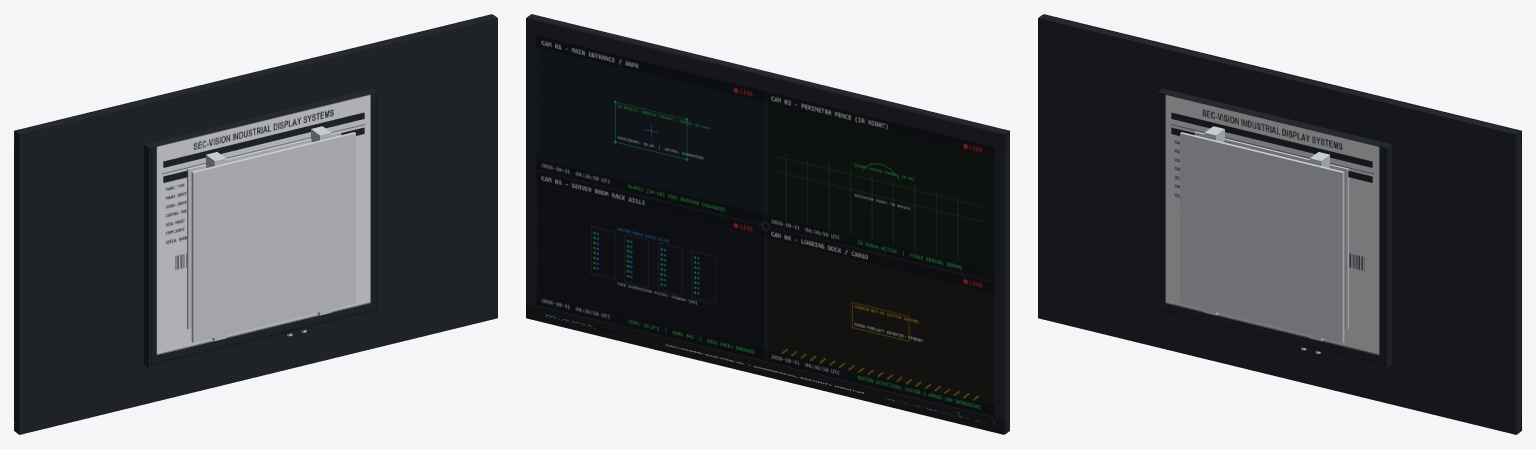
The model's file is SEC_Monitor_Wall_Display.fbx.
The picture shows the model from 3 angles, left to right: view 1: azimuth 30°, elevation 25°; view 2: azimuth 150°, elevation 25°; view 3: azimuth 330°, elevation 25°; orthographic projection.
Visible parts, largest first — view 1: Display_Housing, VESA_Plate, Bezel; view 2: Screen_Surface, Bezel, Display_Housing; view 3: Display_Housing, VESA_Plate, Bezel.
Boxes of the visible parts, bbox=[...] form: Display_Housing: bbox=[15, 14, 497, 434]; VESA_Plate: bbox=[187, 126, 355, 342]; Bezel: bbox=[14, 14, 492, 431]; Screen_Surface: bbox=[536, 35, 994, 416]; Bezel: bbox=[526, 17, 1004, 434]; Display_Housing: bbox=[527, 14, 1009, 434]; Display_Housing: bbox=[1038, 14, 1520, 434]; VESA_Plate: bbox=[1180, 126, 1348, 342]; Bezel: bbox=[1043, 14, 1521, 431].
Bounding box in the file's own units: 100 × 60 × 8.2.
3 materials, 2 textured.
